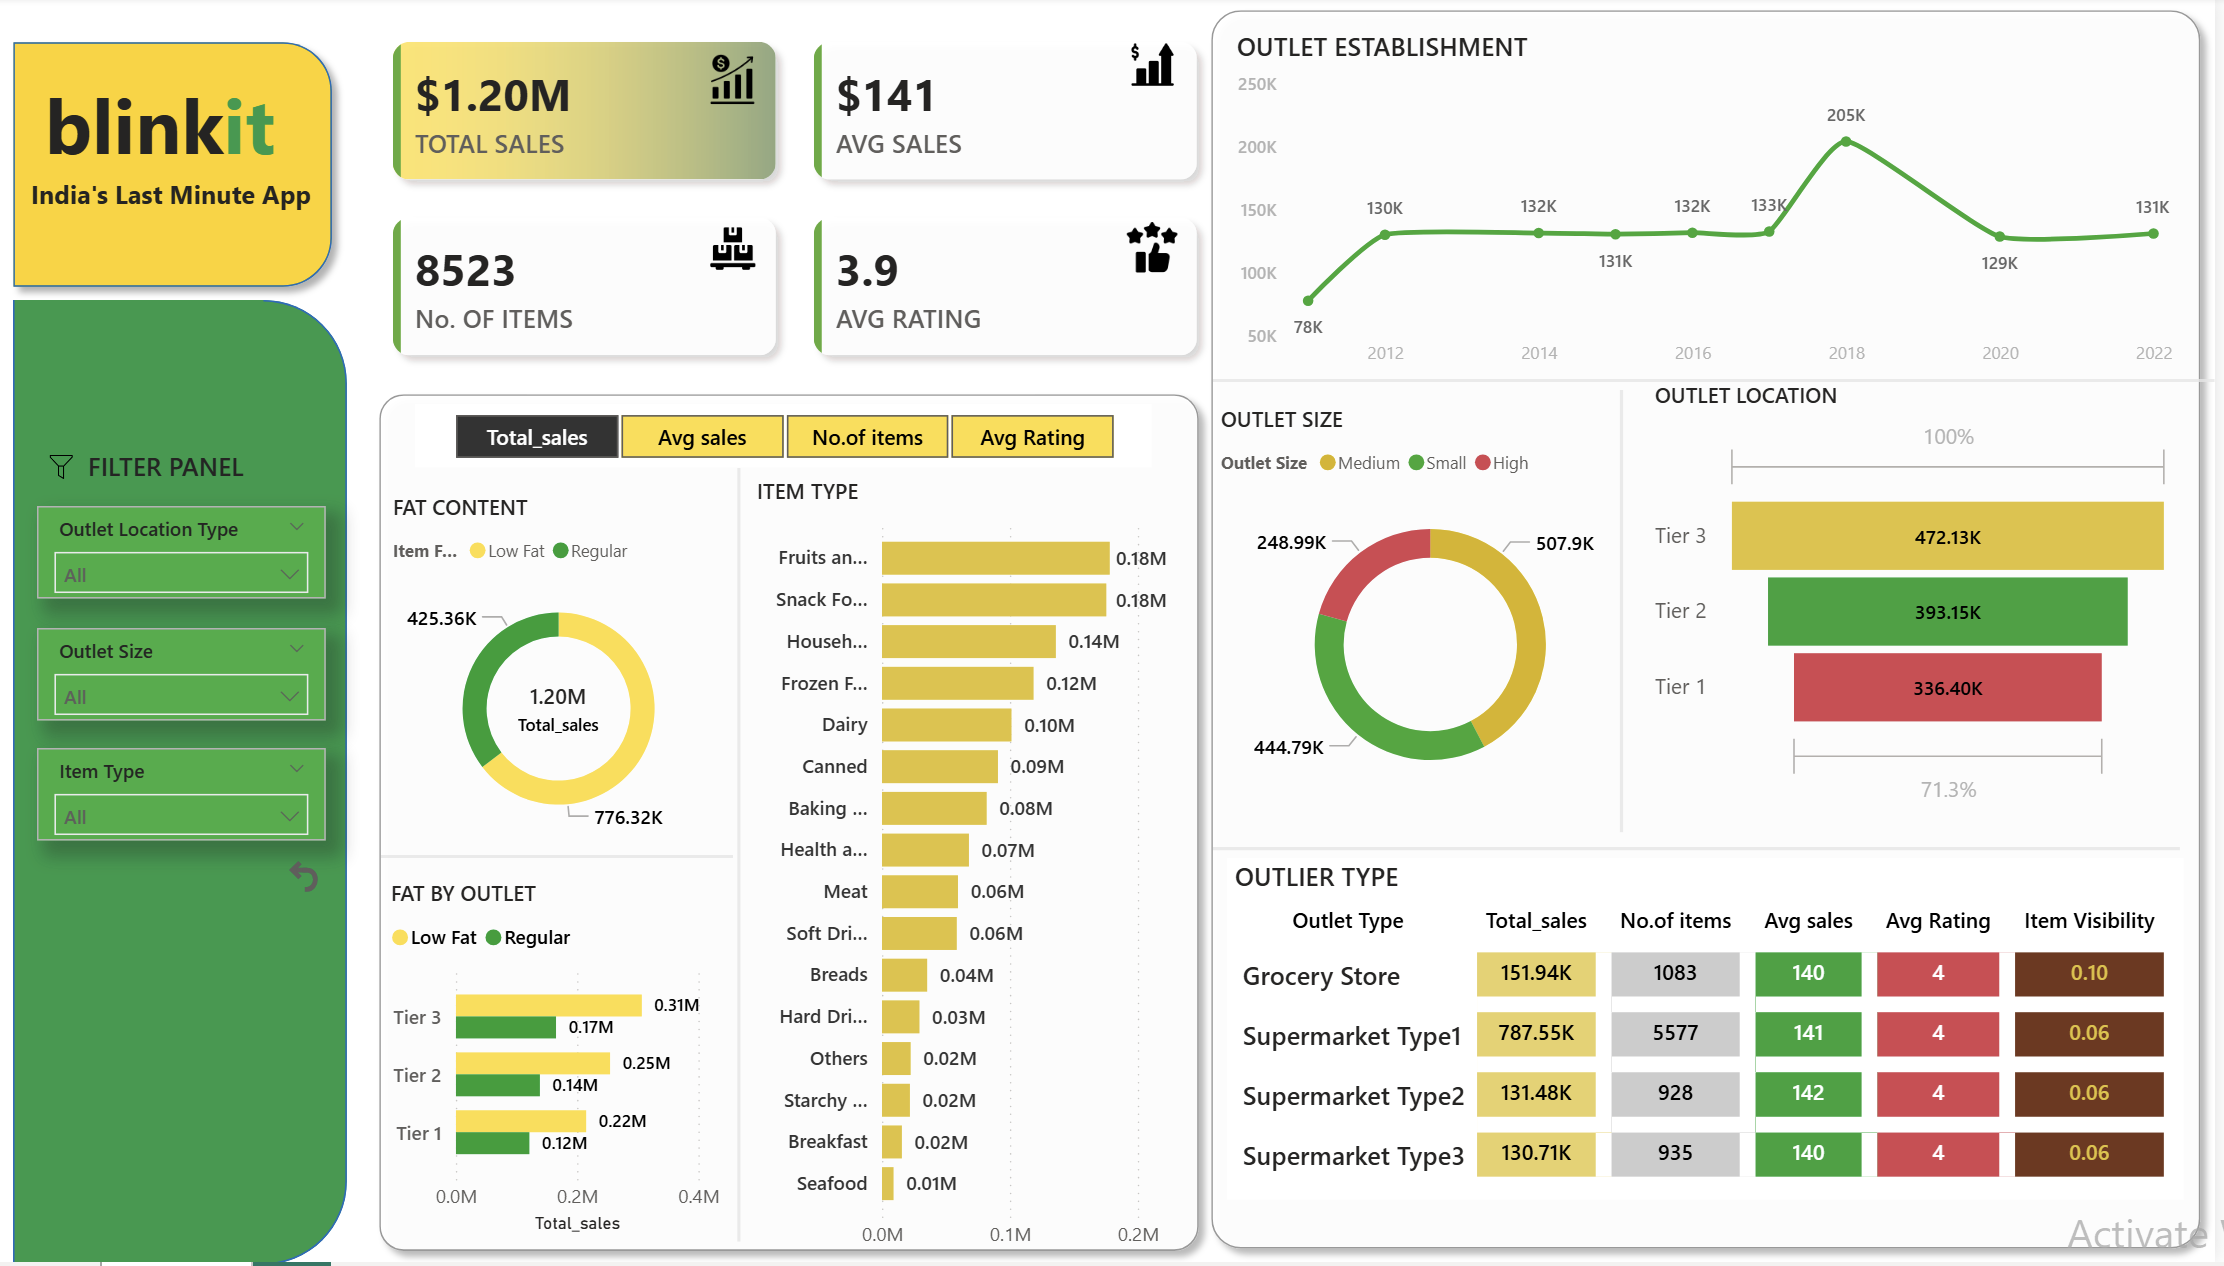

The page's visual inventory and layout, read from the dashboard file:
{"tool":"powerbi","page":{"name":"Page 1","canvas":[1400,800],"ordinal":0},"visuals":[{"type":"shape","box":[0,20.1,219.4,172.5],"z":0},{"type":"textbox","box":[23.4,43.5,174.2,83.7],"z":1000},{"type":"textbox","box":[15.1,108.9,190.9,36.8],"z":2000},{"type":"shape","box":[8.4,192.6,211,609.6],"z":3000},{"type":"cardVisual","fields":{"Data":["BlinkIT Grocery Data.Total Sales","BlinkIT Grocery Data.Average Sales","BlinkIT Grocery Data.No of Items","BlinkIT Grocery Data.Avg of Rating"]},"box":[219.4,0,566,257.9],"z":4000},{"type":"image","box":[681.6,28.5,95.5,28.5],"z":5000},{"type":"image","box":[430.4,36.8,65.3,31.8],"z":6000},{"type":"image","box":[430.4,145.7,65.3,28.5],"z":7000},{"type":"image","box":[700,142.3,56.9,31.8],"z":8000},{"type":"shape","box":[231.1,242.8,535.9,559.3],"z":9000},{"type":"donutChart","title":"FAT CONTENT","fields":{"Y":["Table1.Total_sales"],"Category":["Table1.Item Fat Content"]},"box":[244.5,313.2,219.4,229.4],"z":10000},{"type":"slicer","fields":{"Values":["Metrics.Metrics"]},"box":[262.9,257.9,465.6,40.2],"z":11000},{"type":"cardVisual","fields":{"Data":["Table1.Total_sales"]},"box":[286.4,417,134,67],"z":12000},{"type":"clusteredBarChart","title":"FAT BY OUTLET","fields":{"Y":["Table1.Total_sales"],"Category":["Table1.Outlet Location Type"],"Series":["Table1.Item Fat Content"]},"box":[242.6,557.8,218.9,228.7],"z":13000},{"type":"shape","box":[241.1,529.2,222.7,28.5],"z":14000},{"type":"shape","box":[452.2,298.1,30.1,489],"z":15000},{"type":"barChart","title":"ITEM TYPE","fields":{"Y":["Table1.Total_sales"],"Category":["Table1.Item Type"]},"box":[473.9,303.1,283,497.4],"z":16000},{"type":"shape","box":[756.9,0,643.1,800.5],"z":17000},{"type":"lineChart","title":"OUTLET ESTABLISHMENT","fields":{"Y":["Table1.Total_sales"],"Category":["Table1.Outlet Establishment Year"]},"box":[777,20.1,601.2,222.7],"z":18000},{"type":"shape","box":[767,226.1,633,33.5],"z":19000},{"type":"donutChart","title":"OUTLET SIZE","fields":{"Y":["Table1.Total_sales"],"Category":["Table1.Outlet Size"]},"box":[767,257.9,274.6,259.6],"z":20000},{"type":"shape","box":[1008.1,249.5,33.5,279.7],"z":21000},{"type":"shape","box":[767,534.2,611.2,8.4],"z":22000},{"type":"funnel","title":"OUTLET LOCATION","fields":{"Y":["Sum(Table1.Sales)"],"Category":["Table1.Outlet Location Type"]},"box":[1041.6,242.8,336.6,274.6],"z":23000},{"type":"pivotTable","title":"OUTLIER TYPE","fields":{"Rows":["Table1.Outlet Type"],"Values":["Table1.Total_sales","Table1.No.of items","Table1.Avg sales","Table1.Avg Rating","Avg(Table1.Item Visibility)"]},"box":[775.4,544.3,604.5,216],"z":24000},{"type":"slicer","fields":{"Values":["Table1.Outlet Location Type"]},"box":[23.7,322.1,182.7,58.6],"z":25000},{"type":"slicer","fields":{"Values":["Table1.Outlet Size"]},"box":[23.7,398.8,182.7,58.6],"z":26000},{"type":"slicer","fields":{"Values":["Table1.Item Type"]},"box":[23.7,475.5,182.7,58.6],"z":27000},{"type":"textbox","box":[25,281,160.4,34],"z":28000},{"type":"image","box":[23.7,290,30.7,16.7],"z":29000},{"type":"actionButton","box":[153.8,541.8,76.9,28],"z":29001}]}

Visuals, with their boxes in screenshot pixels (x1, y1, x2, y2), scaled from the page's 1400x800 canvas onto the 2224x1266 screenshot:
shape: 0, 32, 349, 305
textbox: 37, 69, 314, 201
textbox: 24, 172, 327, 231
shape: 13, 305, 349, 1265
cardVisual - BlinkIT Grocery Data.Total Sales x BlinkIT Grocery Data.Average Sales: 349, 0, 1248, 408
image: 1083, 45, 1234, 90
image: 684, 58, 787, 109
image: 684, 231, 787, 276
image: 1112, 225, 1202, 276
shape: 367, 384, 1218, 1265
"FAT CONTENT" donutChart: 388, 496, 737, 859
slicer - Metrics.Metrics: 418, 408, 1157, 472
cardVisual - Table1.Total_sales: 455, 660, 668, 766
"FAT BY OUTLET" clusteredBarChart: 385, 883, 733, 1245
shape: 383, 837, 737, 883
shape: 718, 472, 766, 1246
"ITEM TYPE" barChart: 753, 480, 1202, 1265
shape: 1202, 0, 2223, 1265
"OUTLET ESTABLISHMENT" lineChart: 1234, 32, 2189, 384
shape: 1218, 358, 2223, 411
"OUTLET SIZE" donutChart: 1218, 408, 1655, 819
shape: 1601, 395, 1655, 837
shape: 1218, 845, 2189, 859
"OUTLET LOCATION" funnel: 1655, 384, 2189, 819
"OUTLIER TYPE" pivotTable: 1232, 861, 2192, 1203
slicer - Table1.Outlet Location Type: 38, 510, 328, 602
slicer - Table1.Outlet Size: 38, 631, 328, 724
slicer - Table1.Item Type: 38, 752, 328, 845
textbox: 40, 445, 295, 498
image: 38, 459, 86, 485
actionButton: 244, 857, 366, 902
